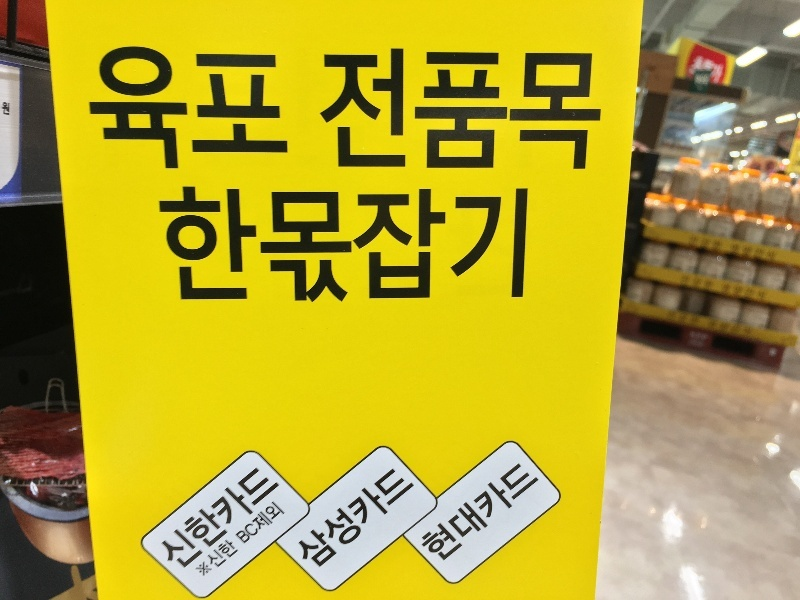text: (81, 40, 96, 176), (97, 40, 112, 176), (113, 40, 128, 176), (129, 40, 144, 176), (145, 40, 160, 176), (161, 40, 176, 176), (177, 40, 192, 176), (193, 40, 208, 176), (209, 40, 224, 176), (225, 40, 240, 176), (241, 40, 256, 176), (257, 40, 272, 176), (273, 40, 288, 176), (321, 46, 336, 175), (337, 46, 352, 175), (353, 46, 368, 175), (369, 46, 384, 175), (385, 46, 400, 175), (401, 46, 416, 175), (417, 46, 432, 175), (433, 46, 448, 175), (449, 46, 464, 175), (465, 46, 480, 175), (481, 46, 496, 175), (497, 46, 512, 175), (513, 46, 528, 175), (529, 46, 544, 175), (545, 46, 560, 175), (561, 46, 576, 175), (577, 46, 592, 175), (593, 46, 608, 175), (161, 182, 176, 309), (177, 182, 192, 309), (193, 182, 208, 309), (209, 182, 224, 309), (225, 182, 240, 309), (241, 182, 256, 309), (257, 182, 272, 309), (273, 182, 288, 309), (289, 182, 304, 309), (305, 182, 320, 309), (321, 182, 336, 309), (337, 182, 352, 309), (353, 182, 368, 309), (369, 182, 384, 309), (385, 182, 400, 309), (401, 182, 416, 309), (417, 182, 432, 309), (433, 182, 448, 309), (449, 182, 464, 309), (465, 182, 480, 309), (481, 182, 496, 309), (497, 182, 512, 309), (513, 182, 528, 309), (161, 464, 176, 577), (177, 464, 192, 577), (193, 464, 208, 577), (209, 464, 224, 577), (225, 464, 240, 577), (241, 464, 256, 577), (257, 464, 272, 577), (305, 465, 320, 577), (321, 465, 336, 577), (337, 465, 352, 577), (353, 465, 368, 577), (369, 465, 384, 577), (385, 465, 400, 577), (401, 465, 416, 577), (417, 461, 432, 567), (433, 461, 448, 567), (449, 461, 464, 567), (465, 461, 480, 567), (481, 461, 496, 567), (497, 461, 512, 567), (513, 461, 528, 567), (529, 461, 542, 567), (150, 182, 160, 309), (294, 465, 304, 577), (312, 46, 320, 175), (273, 464, 282, 577), (241, 500, 256, 548), (257, 500, 272, 548), (225, 537, 241, 581), (289, 40, 294, 176), (273, 500, 287, 548), (193, 537, 208, 581), (209, 537, 224, 581), (705, 54, 720, 86), (77, 40, 80, 176), (737, 242, 752, 265), (753, 242, 768, 265), (721, 280, 736, 303), (737, 280, 752, 303), (753, 280, 768, 303), (721, 317, 736, 340), (737, 317, 752, 340), (157, 464, 160, 577), (689, 233, 704, 254), (705, 233, 720, 254), (689, 271, 704, 292), (689, 329, 704, 349), (234, 500, 240, 548), (673, 308, 688, 327), (708, 317, 720, 340), (689, 308, 703, 327), (1, 101, 16, 118), (705, 271, 716, 292), (769, 242, 779, 265), (417, 465, 419, 577), (697, 54, 704, 86), (679, 271, 688, 292), (693, 72, 704, 89), (730, 242, 736, 265), (721, 54, 725, 86), (529, 182, 530, 309), (705, 72, 712, 89), (666, 308, 672, 327), (721, 233, 726, 254), (753, 317, 757, 340), (705, 329, 709, 349), (769, 280, 770, 303)
